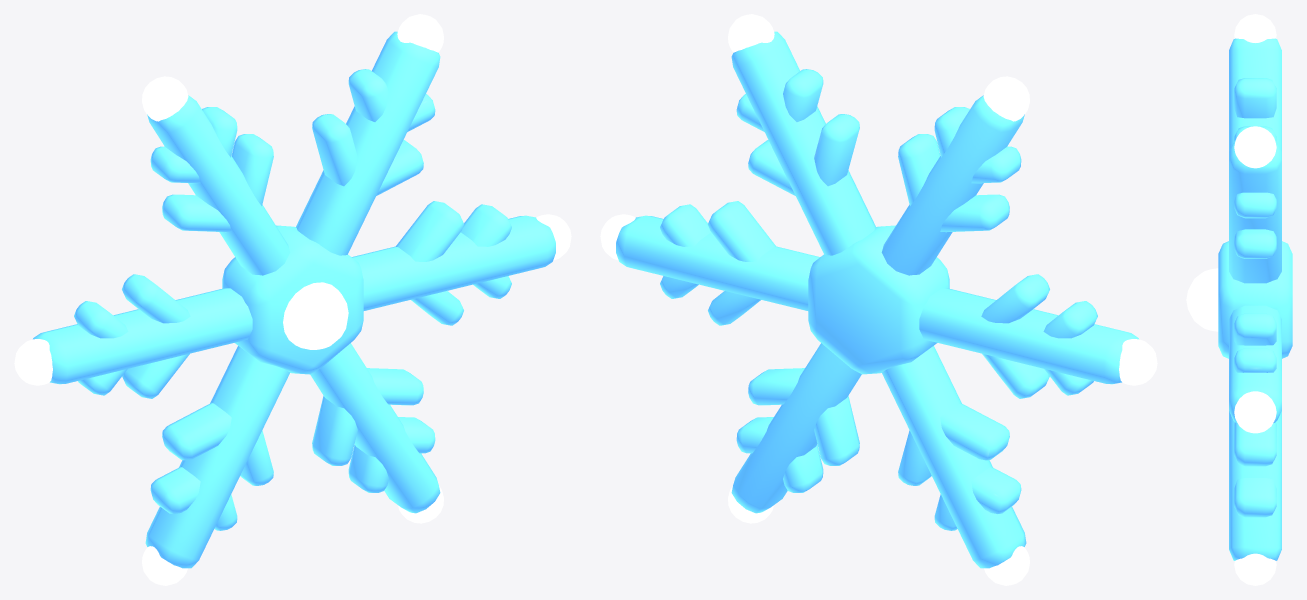
File: sf_coin.glb
3 views of the same model, side by side, from view 1: azimuth 30°, elevation 25°; view 2: azimuth 150°, elevation 25°; view 3: azimuth 270°, elevation 25° (orthographic). The views are drawn at different scales.
Parts seen in each view (by area): view 1: sf_coin; view 2: sf_coin; view 3: sf_coin.
Part boxes in pixels (x1,y1,x2,y2): sf_coin: (14,14,571,585); sf_coin: (600,14,1157,585); sf_coin: (1186,14,1292,585).
Bounding box in the file's own units: 1.08 × 0.9456 × 0.2.
2 materials, 2 textured.
